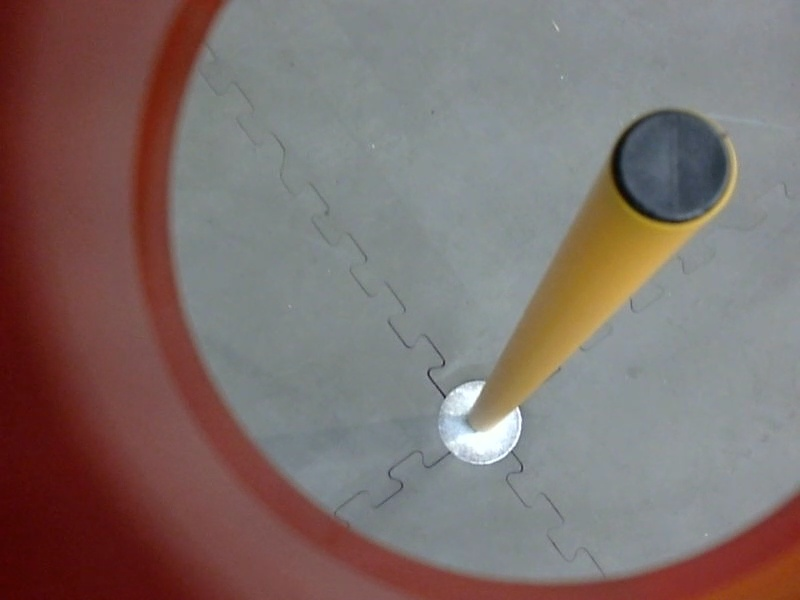tip: (603, 96, 750, 235)
